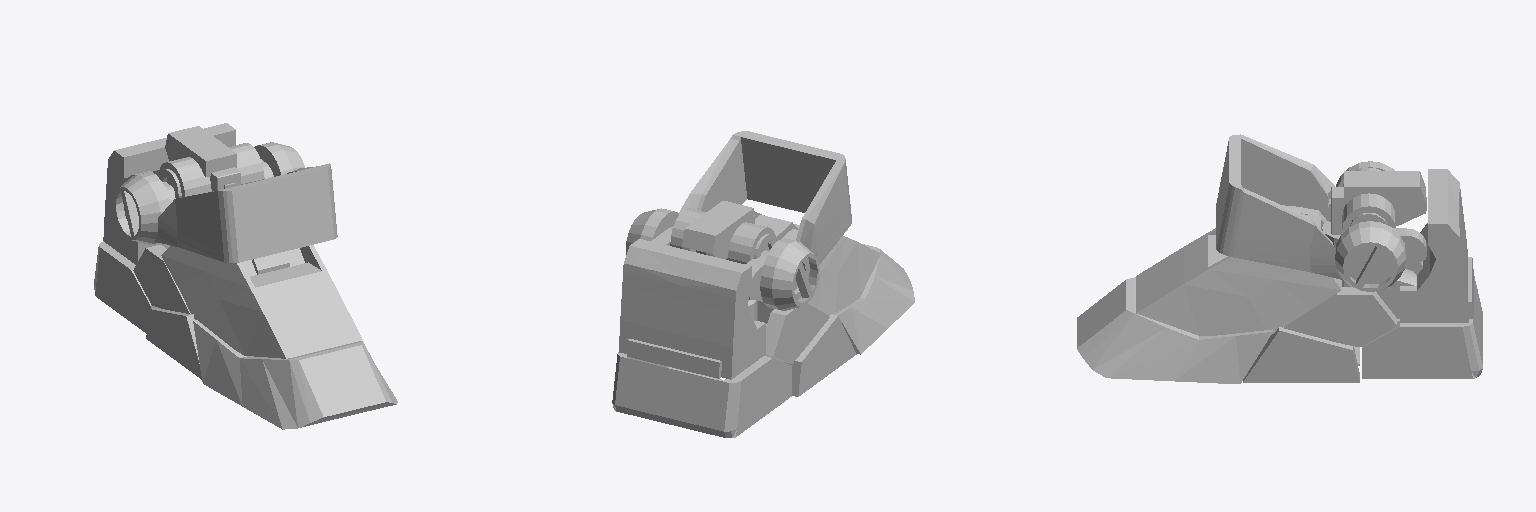
Rendered from rightfoot.obj.
The picture shows the model from 3 angles: view 1: azimuth 30°, elevation 25°; view 2: azimuth 150°, elevation 25°; view 3: azimuth 270°, elevation 25°; orthographic projection.
Bounding box in the file's own units: 3.97 × 4.35 × 8.42.